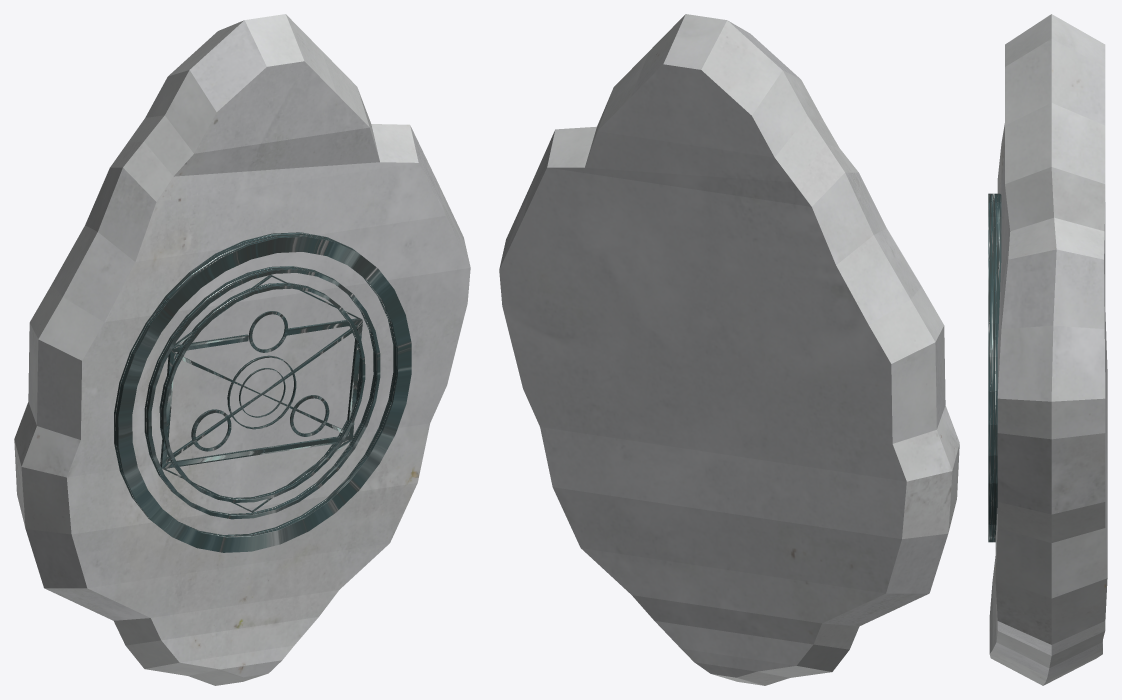
Rendered from icestrike.fbx.
The picture shows the model from 3 angles, left to right: view 1: azimuth 30°, elevation 25°; view 2: azimuth 150°, elevation 25°; view 3: azimuth 270°, elevation 25°; orthographic projection. The views are drawn at different scales.
Parts seen in each view (by area): view 1: Cube.002, Cube.004; view 2: Cube.002; view 3: Cube.002, Cube.004.
Boxes of the visible parts, bbox=[...] form: Cube.002: bbox=[14, 14, 470, 685]; Cube.004: bbox=[114, 232, 411, 552]; Cube.002: bbox=[499, 14, 959, 685]; Cube.002: bbox=[989, 14, 1107, 685]; Cube.004: bbox=[988, 193, 1001, 542].
Bounding box in the file's own units: 121 × 171 × 27.38.
